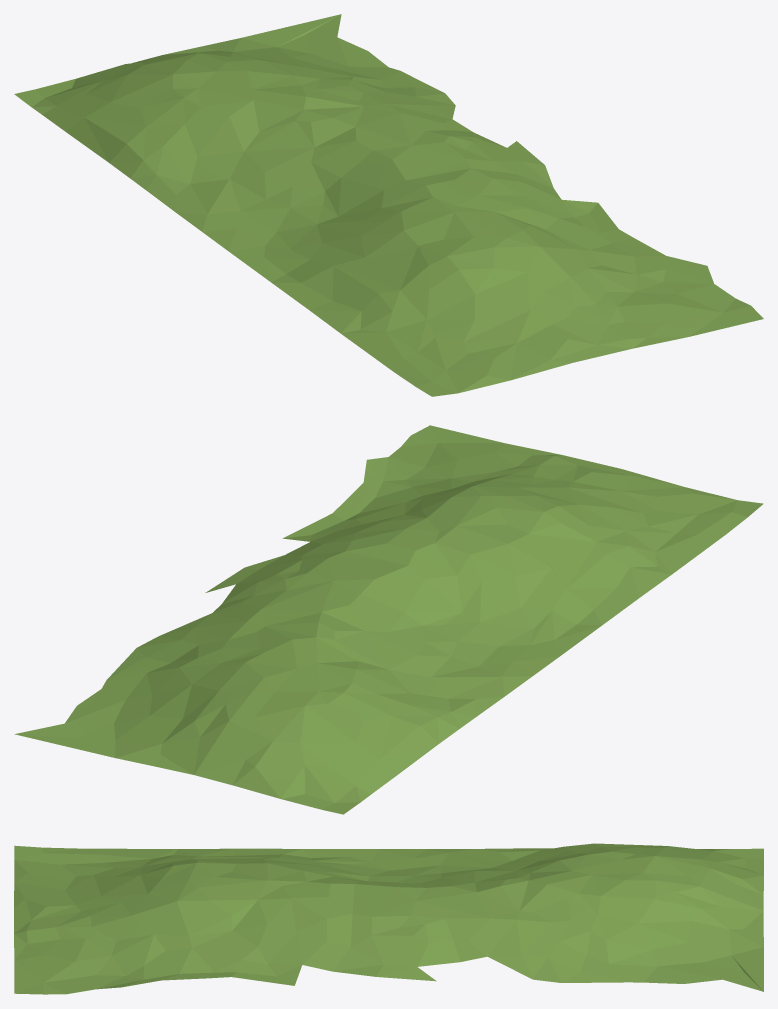
Rendered from Terrain_2.fbx.
3 renders of one model, top to bottom at view 1: azimuth 30°, elevation 25°; view 2: azimuth 150°, elevation 25°; view 3: azimuth 270°, elevation 25°, orthographic. The views are drawn at different scales.
Visible parts, largest first — view 1: Terrain_2; view 2: Terrain_2; view 3: Terrain_2.
Boxes of the visible parts, x1,y1,x2,y2 form: Terrain_2: (14, 14, 763, 396); Terrain_2: (14, 425, 763, 814); Terrain_2: (14, 843, 763, 994).
Size of the model in its own units: 926 by 121 by 2001.
